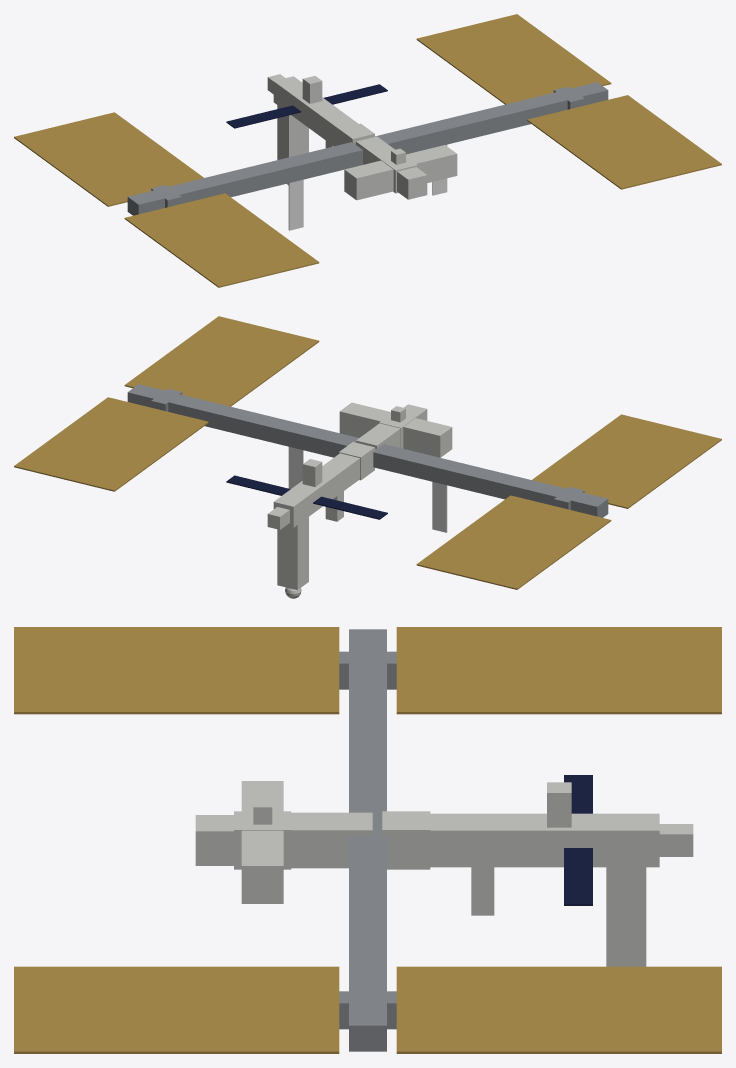
The model's file is iss.glb.
3 renders of one model, top to bottom at view 1: azimuth 30°, elevation 25°; view 2: azimuth 150°, elevation 25°; view 3: azimuth 270°, elevation 25°, orthographic. The views are drawn at different scales.
Size of the model in its own units: 105 by 24.1 by 74.
